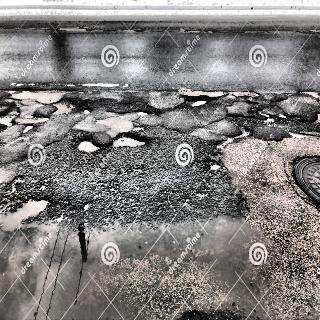pothole: (0, 171, 55, 248), (109, 95, 154, 161), (0, 80, 79, 104), (25, 103, 73, 131), (74, 130, 105, 166), (252, 106, 297, 129), (178, 94, 214, 112), (5, 99, 18, 139), (295, 85, 320, 102), (305, 106, 320, 131), (230, 90, 265, 100)
